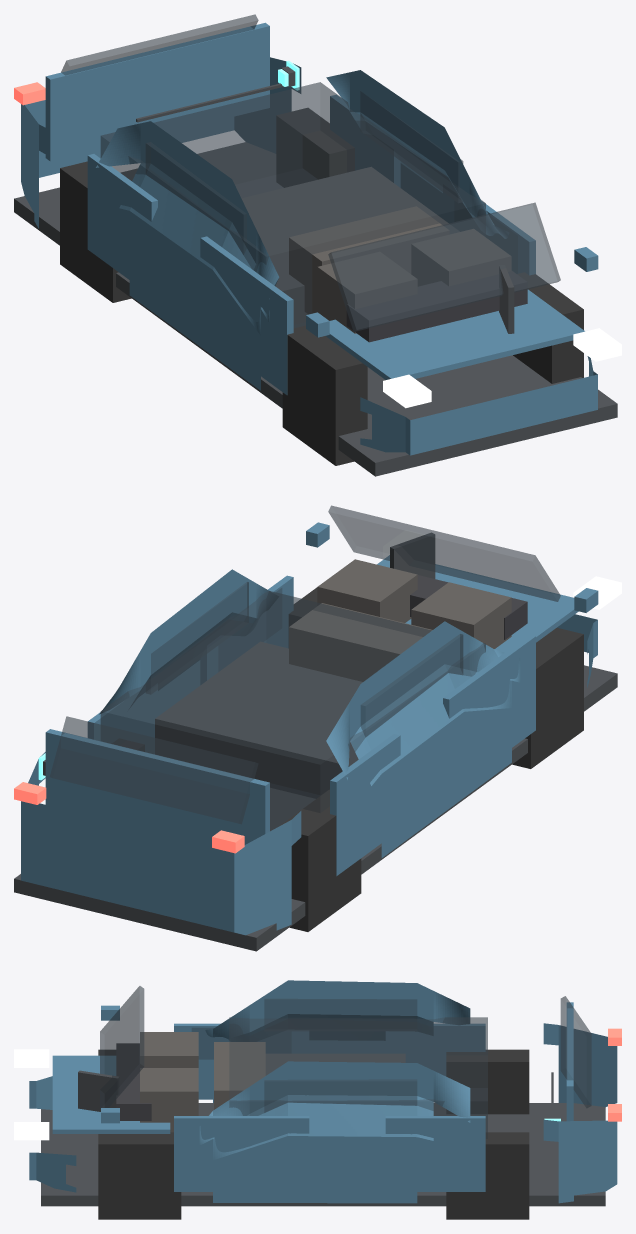
The model's file is sport_sedan.92f8732063.glb.
3 renders of one model, top to bottom at view 1: azimuth 30°, elevation 25°; view 2: azimuth 150°, elevation 25°; view 3: azimuth 270°, elevation 25°, orthographic. The views are drawn at different scales.
Parts seen in each view (by area): view 1: body_mesh, cab_mesh, liftgate_mesh, windshield, trim_mesh, frunk_mesh, wheel_well_mesh, tire_fr, seat_rear, dash, door_fr_mesh, door_rr_mesh (+14 smaller); view 2: body_mesh, cab_mesh, wheel_well_mesh, liftgate_mesh, rear_glass, windshield, trim_mesh, seat_rear, tire_fr, tire_rr, door_rr_mesh, door_fr_mesh (+10 smaller); view 3: body_mesh, cab_mesh, trim_mesh, tire_fl, door_rl_mesh, door_fl_mesh, tire_rl, window_fixed_r, tire_rr, frunk_mesh, window_fixed_l, windshield (+13 smaller).
Boxes of the visible parts, box(x1,y1,x2,y2) form: body_mesh: box(21, 57, 597, 455); cab_mesh: box(100, 82, 485, 328); liftgate_mesh: box(45, 22, 269, 161); windshield: box(328, 202, 560, 331); trim_mesh: box(14, 142, 617, 476); frunk_mesh: box(326, 289, 584, 379); wheel_well_mesh: box(241, 167, 459, 327); tire_fr: box(282, 325, 367, 465); seat_rear: box(289, 206, 449, 314); dash: box(346, 271, 527, 342); door_fr_mesh: box(200, 236, 293, 394); door_rr_mesh: box(87, 154, 157, 279); body_mesh: box(21, 569, 597, 935); cab_mesh: box(100, 591, 485, 830); wheel_well_mesh: box(155, 641, 362, 798); liftgate_mesh: box(45, 729, 269, 845); rear_glass: box(50, 716, 258, 824); windshield: box(328, 505, 560, 601); trim_mesh: box(14, 665, 617, 951); seat_rear: box(289, 603, 432, 681); tire_fr: box(512, 627, 583, 768); tire_rr: box(278, 789, 361, 931); door_rr_mesh: box(330, 734, 400, 876); door_fr_mesh: box(443, 634, 535, 747); body_mesh: box(29, 980, 617, 1203); cab_mesh: box(229, 1017, 487, 1138); trim_mesh: box(41, 1103, 605, 1206); tire_fl: box(98, 1132, 181, 1219); door_rl_mesh: box(385, 1116, 485, 1191); door_fl_mesh: box(174, 1116, 309, 1191); tire_rl: box(446, 1132, 529, 1219); window_fixed_r: box(264, 999, 416, 1030); tire_rr: box(446, 1049, 529, 1114); frunk_mesh: box(52, 1055, 170, 1133); window_fixed_l: box(264, 1079, 416, 1112); windshield: box(100, 986, 144, 1109).
Size of the model in its own units: 2.15 by 1.42 by 5.17.
